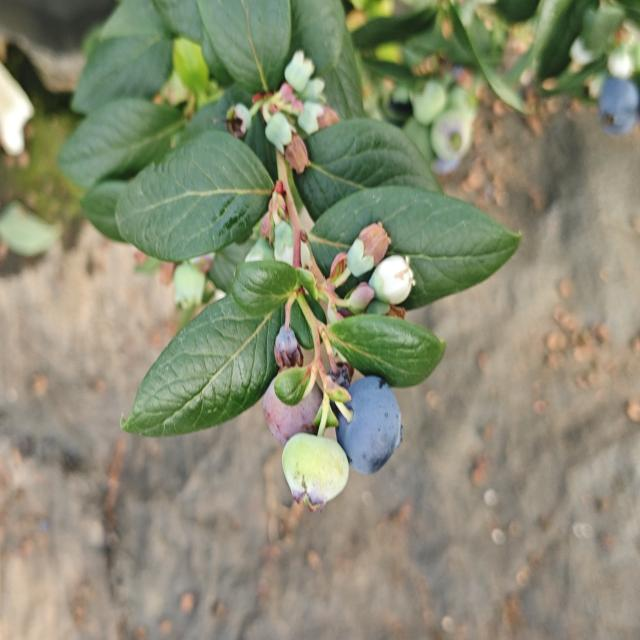ripe: (334, 373, 407, 476), (591, 72, 640, 134)
